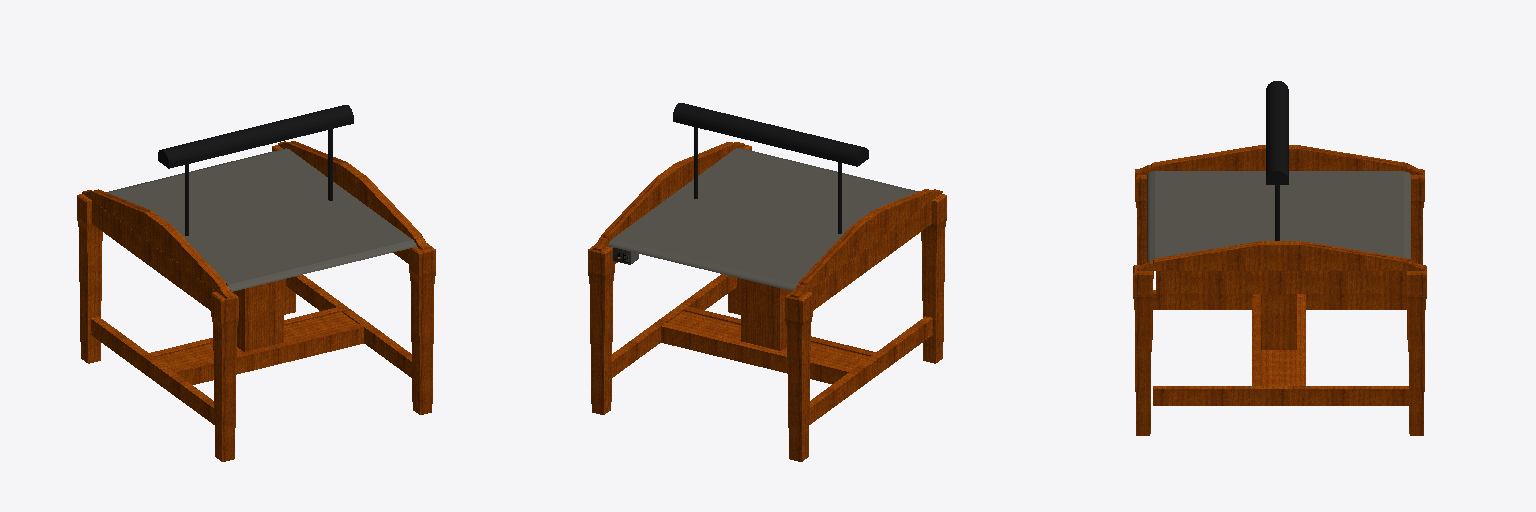
The picture shows the model from 3 angles: view 1: azimuth 30°, elevation 25°; view 2: azimuth 150°, elevation 25°; view 3: azimuth 270°, elevation 25°; orthographic projection.
Visible parts, largest first — view 1: Mesh12 Group_61_1 Empire_Table1 Empire4840_not_top1 Model, Mesh11 Group_58_1 Empire_Table1 Empire4840_not_top1 Model, Mesh10 Group_60_1 Empire_Table1 Empire4840_not_top1 Model, Mesh5 Group_59_2 Empire_Table1 Empire4840_not_top1 Model, Mesh7 Group_59_4 Empire_Table1 Empire4840_not_top1 Model, Mesh1 Component_30_1 Empire_Table1 Empire4840_not_top1 Model, Mesh4 Group_59_1 Empire_Table1 Empire4840_not_top1 Model, Mesh14 Component_27_1 Empire_Table1 Empire4840_not_top1 Model, Mesh2 Component_30_2 Empire_Table1 Empire4840_not_top1 Model, Mesh13 Component_28_1 Empire_Table1 Empire4840_not_top1 Model, Mesh15 Component_27_2 Empire_Table1 Empire4840_not_top1 Model; view 2: Mesh12 Group_61_1 Empire_Table1 Empire4840_not_top1 Model, Mesh11 Group_58_1 Empire_Table1 Empire4840_not_top1 Model, Mesh10 Group_60_1 Empire_Table1 Empire4840_not_top1 Model, Mesh4 Group_59_1 Empire_Table1 Empire4840_not_top1 Model, Mesh6 Group_59_3 Empire_Table1 Empire4840_not_top1 Model, Mesh1 Component_30_1 Empire_Table1 Empire4840_not_top1 Model, Mesh5 Group_59_2 Empire_Table1 Empire4840_not_top1 Model, Mesh14 Component_27_1 Empire_Table1 Empire4840_not_top1 Model, Mesh2 Component_30_2 Empire_Table1 Empire4840_not_top1 Model, Mesh13 Component_28_1 Empire_Table1 Empire4840_not_top1 Model, Mesh15 Component_27_2 Empire_Table1 Empire4840_not_top1 Model; view 3: Mesh12 Group_61_1 Empire_Table1 Empire4840_not_top1 Model, Mesh2 Component_30_2 Empire_Table1 Empire4840_not_top1 Model, Mesh16 Component_28_2 Empire_Table1 Empire4840_not_top1 Model, Mesh15 Component_27_2 Empire_Table1 Empire4840_not_top1 Model, Mesh11 Group_58_1 Empire_Table1 Empire4840_not_top1 Model, Mesh1 Component_30_1 Empire_Table1 Empire4840_not_top1 Model, Mesh14 Component_27_1 Empire_Table1 Empire4840_not_top1 Model, Mesh7 Group_59_4 Empire_Table1 Empire4840_not_top1 Model, Mesh6 Group_59_3 Empire_Table1 Empire4840_not_top1 Model, Mesh10 Group_60_1 Empire_Table1 Empire4840_not_top1 Model, Mesh4 Group_59_1 Empire_Table1 Empire4840_not_top1 Model, Mesh5 Group_59_2 Empire_Table1 Empire4840_not_top1 Model.
Boxes of the visible parts, box(x1,y1,x2,y2) form: Mesh12 Group_61_1 Empire_Table1 Empire4840_not_top1 Model: box(107, 148, 416, 291); Mesh11 Group_58_1 Empire_Table1 Empire4840_not_top1 Model: box(149, 279, 363, 384); Mesh10 Group_60_1 Empire_Table1 Empire4840_not_top1 Model: box(158, 105, 353, 168); Mesh5 Group_59_2 Empire_Table1 Empire4840_not_top1 Model: box(211, 292, 238, 461); Mesh7 Group_59_4 Empire_Table1 Empire4840_not_top1 Model: box(409, 243, 435, 414); Mesh1 Component_30_1 Empire_Table1 Empire4840_not_top1 Model: box(82, 189, 233, 298); Mesh4 Group_59_1 Empire_Table1 Empire4840_not_top1 Model: box(77, 194, 102, 363); Mesh14 Component_27_1 Empire_Table1 Empire4840_not_top1 Model: box(90, 316, 214, 424); Mesh2 Component_30_2 Empire_Table1 Empire4840_not_top1 Model: box(278, 141, 429, 249); Mesh13 Component_28_1 Empire_Table1 Empire4840_not_top1 Model: box(92, 201, 215, 310); Mesh15 Component_27_2 Empire_Table1 Empire4840_not_top1 Model: box(286, 275, 411, 377); Mesh12 Group_61_1 Empire_Table1 Empire4840_not_top1 Model: box(608, 148, 918, 290); Mesh11 Group_58_1 Empire_Table1 Empire4840_not_top1 Model: box(661, 279, 875, 383); Mesh10 Group_60_1 Empire_Table1 Empire4840_not_top1 Model: box(673, 103, 868, 166); Mesh4 Group_59_1 Empire_Table1 Empire4840_not_top1 Model: box(785, 292, 812, 461); Mesh6 Group_59_3 Empire_Table1 Empire4840_not_top1 Model: box(588, 243, 614, 414); Mesh1 Component_30_1 Empire_Table1 Empire4840_not_top1 Model: box(790, 189, 942, 297); Mesh5 Group_59_2 Empire_Table1 Empire4840_not_top1 Model: box(921, 194, 946, 363); Mesh14 Component_27_1 Empire_Table1 Empire4840_not_top1 Model: box(809, 316, 933, 424); Mesh2 Component_30_2 Empire_Table1 Empire4840_not_top1 Model: box(593, 142, 744, 250); Mesh13 Component_28_1 Empire_Table1 Empire4840_not_top1 Model: box(808, 201, 931, 310); Mesh15 Component_27_2 Empire_Table1 Empire4840_not_top1 Model: box(612, 274, 736, 377); Mesh12 Group_61_1 Empire_Table1 Empire4840_not_top1 Model: box(1147, 171, 1410, 261); Mesh2 Component_30_2 Empire_Table1 Empire4840_not_top1 Model: box(1137, 241, 1424, 270); Mesh16 Component_28_2 Empire_Table1 Empire4840_not_top1 Model: box(1156, 271, 1406, 293); Mesh15 Component_27_2 Empire_Table1 Empire4840_not_top1 Model: box(1153, 386, 1408, 405); Mesh11 Group_58_1 Empire_Table1 Empire4840_not_top1 Model: box(1252, 294, 1305, 385); Mesh1 Component_30_1 Empire_Table1 Empire4840_not_top1 Model: box(1135, 145, 1422, 174); Mesh14 Component_27_1 Empire_Table1 Empire4840_not_top1 Model: box(1153, 290, 1406, 309); Mesh7 Group_59_4 Empire_Table1 Empire4840_not_top1 Model: box(1133, 265, 1152, 435); Mesh6 Group_59_3 Empire_Table1 Empire4840_not_top1 Model: box(1407, 265, 1426, 435); Mesh10 Group_60_1 Empire_Table1 Empire4840_not_top1 Model: box(1266, 81, 1288, 184); Mesh4 Group_59_1 Empire_Table1 Empire4840_not_top1 Model: box(1407, 170, 1424, 339); Mesh5 Group_59_2 Empire_Table1 Empire4840_not_top1 Model: box(1135, 175, 1153, 339).
Size of the model in its own units: 40.87 by 47.26 by 48.63.
Materials: 5 (2 with a texture image).